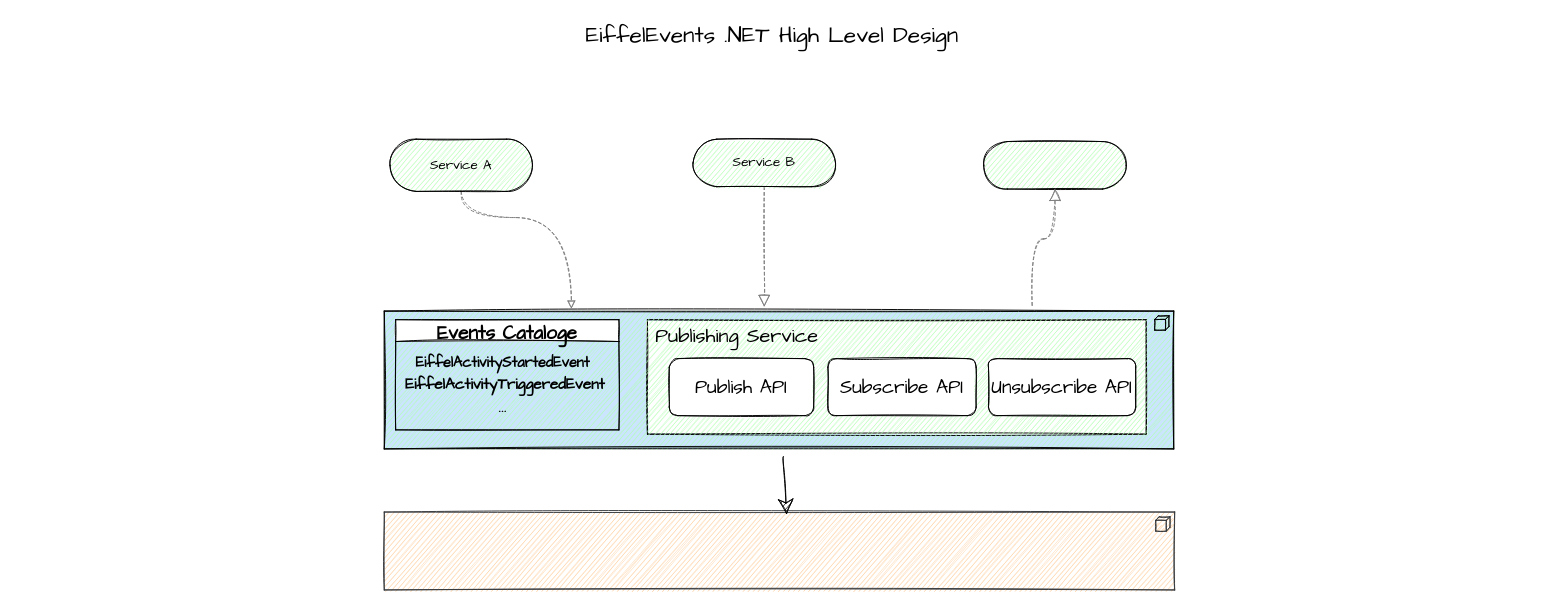
This 1543x606 diagram has some shape labels left out. The shapes that lost their labels are listed below. From the top down, each one's centre as x and y in pixels, then its label:
At point (1054, 165): "Service C".
At point (779, 550): "Message Broker".
